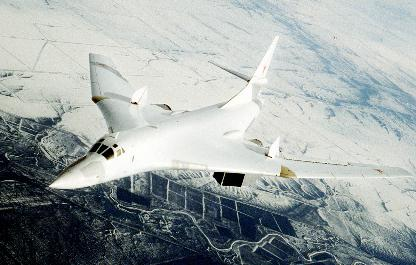Su34: (48, 34, 412, 189)
